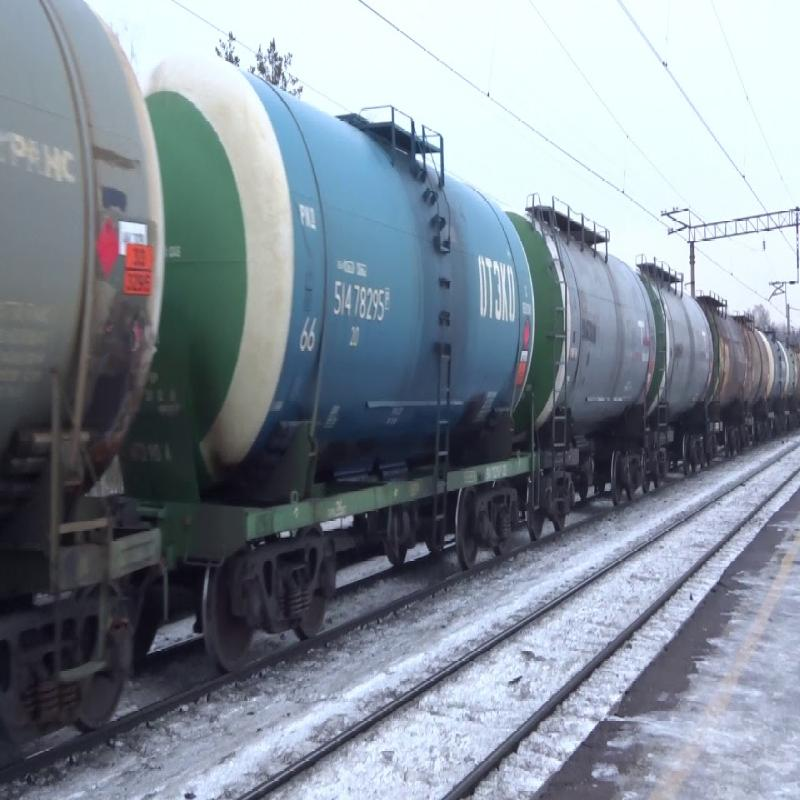train: (1, 73, 528, 652), (500, 203, 678, 532), (635, 282, 778, 465)
